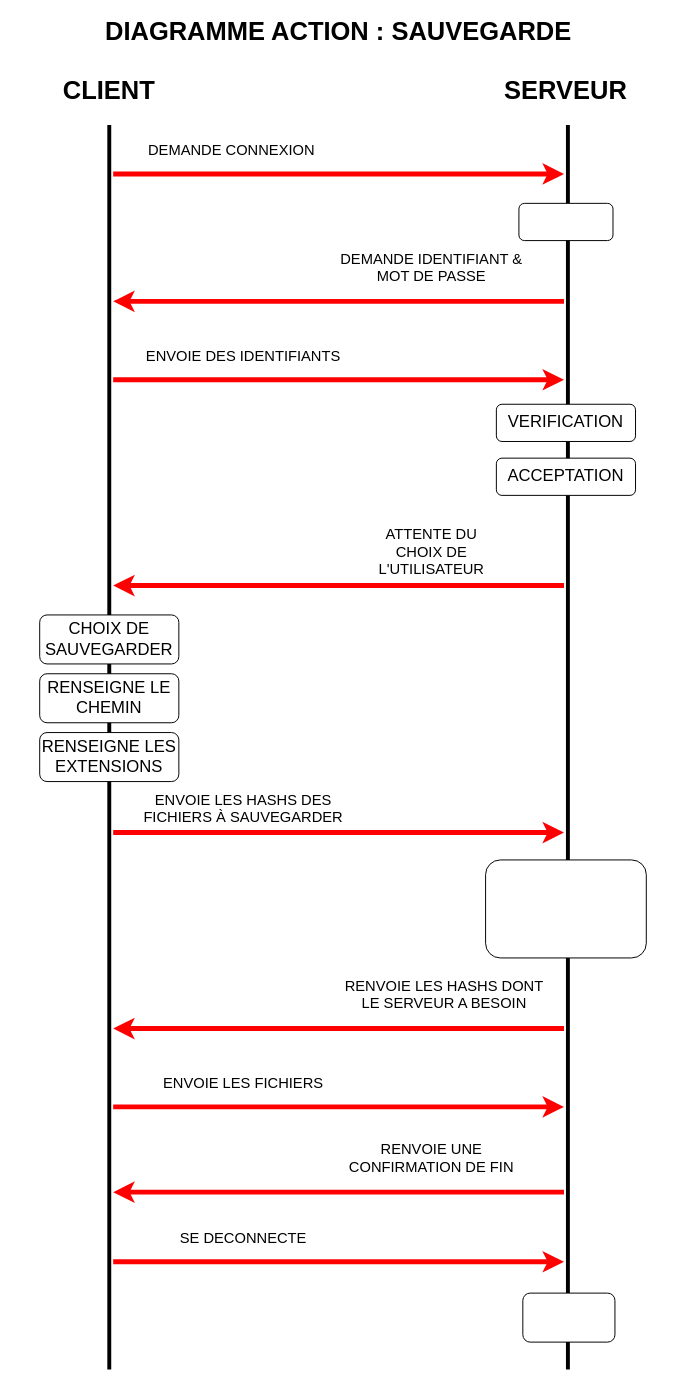
This 676x1390 diagram has some shape labels left out. The centre of each missing label's shape, as x and y in pixels:
FERME LE THREAD: (x=568, y=1317)
THREAD: (x=565, y=221)
VÉRIFIE LES HASHS SELON LES SAUVEGARDES DÉJÀ PRÉSENTES: (x=565, y=908)
